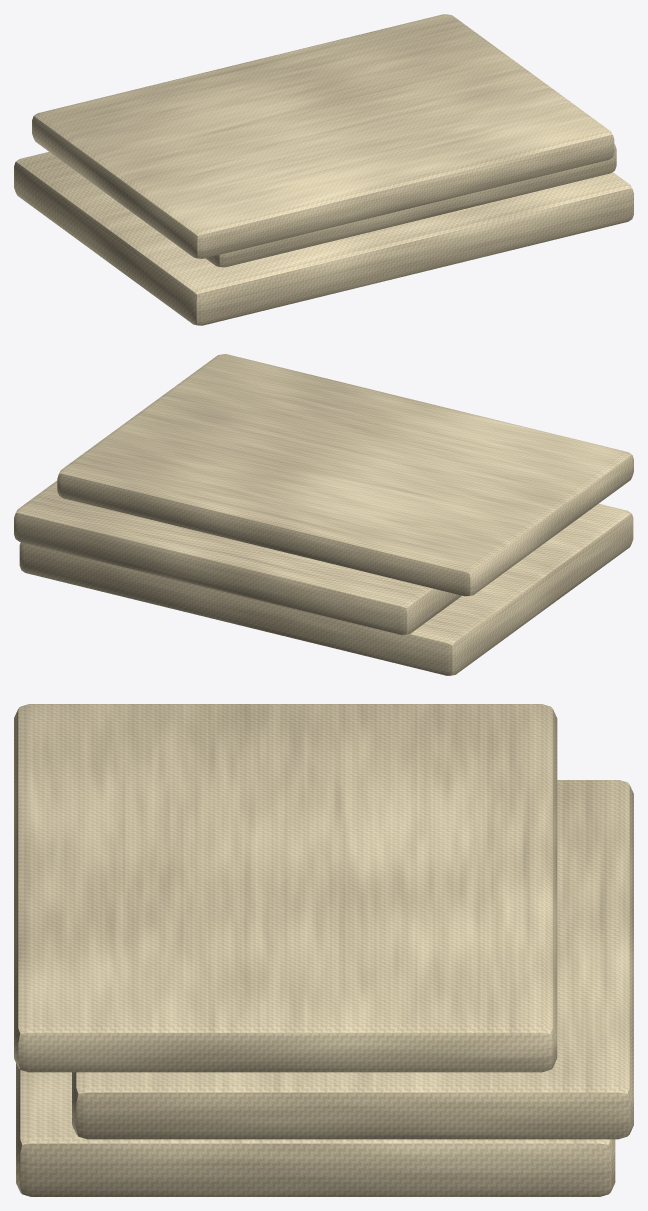
Rendered from cloth_linen.glb.
3 views of the same model, one above another, from view 1: azimuth 30°, elevation 25°; view 2: azimuth 150°, elevation 25°; view 3: azimuth 270°, elevation 25° (orthographic). The views are drawn at different scales.
Parts seen in each view (by area): view 1: cloth_linen; view 2: cloth_linen; view 3: cloth_linen.
Boxes of the visible parts, x1,y1,x2,y2 form: cloth_linen: (14, 14, 633, 325); cloth_linen: (14, 354, 633, 675); cloth_linen: (14, 704, 633, 1196).
Bounding box in the file's own units: 0.22 × 0.046 × 0.1655.
Materials: 2 (2 with a texture image).
